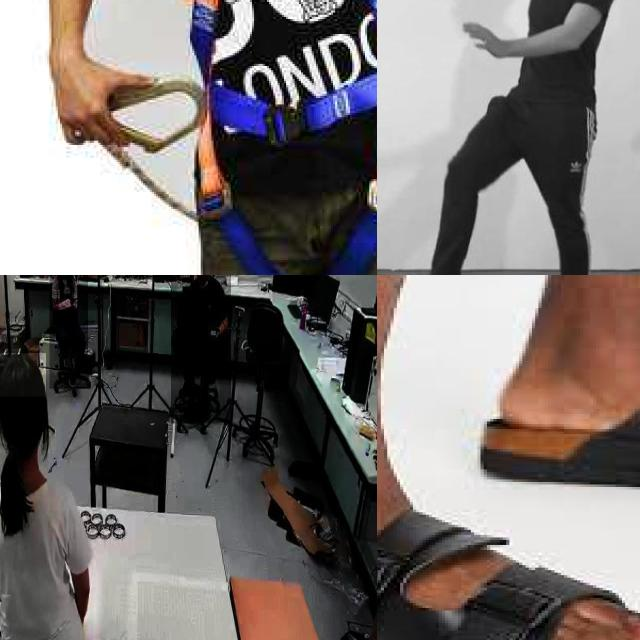Harness: (175, 0, 377, 275)
Sandals: (377, 446, 640, 640)
face_nomask: (196, 275, 209, 283)
hand_glove: (58, 275, 72, 282)
hand_noglove: (451, 0, 509, 77), (207, 322, 221, 339), (59, 297, 71, 309)
head_nohelmet: (0, 353, 46, 397)
person: (402, 0, 621, 275), (0, 363, 93, 640), (170, 275, 231, 424), (49, 275, 88, 388)
